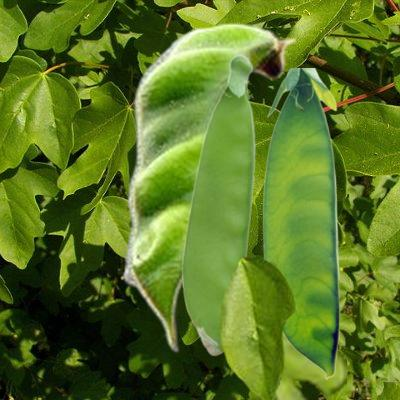pea: (121, 22, 296, 352), (262, 68, 338, 378), (181, 53, 255, 355)
